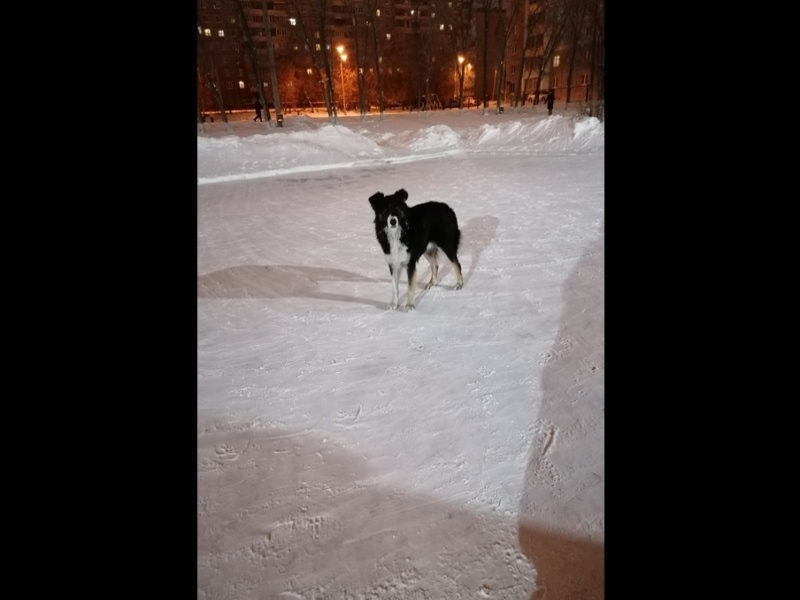dog: (367, 189, 468, 312)
